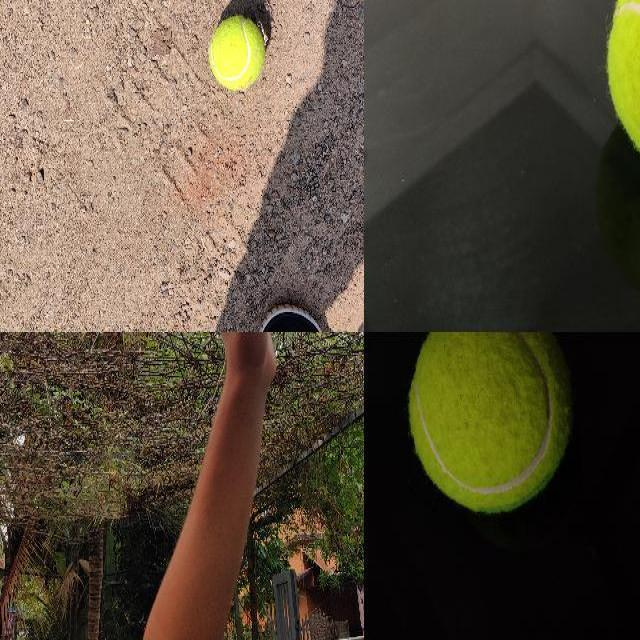tennis-ball: (408, 332, 574, 514), (209, 15, 264, 89)
